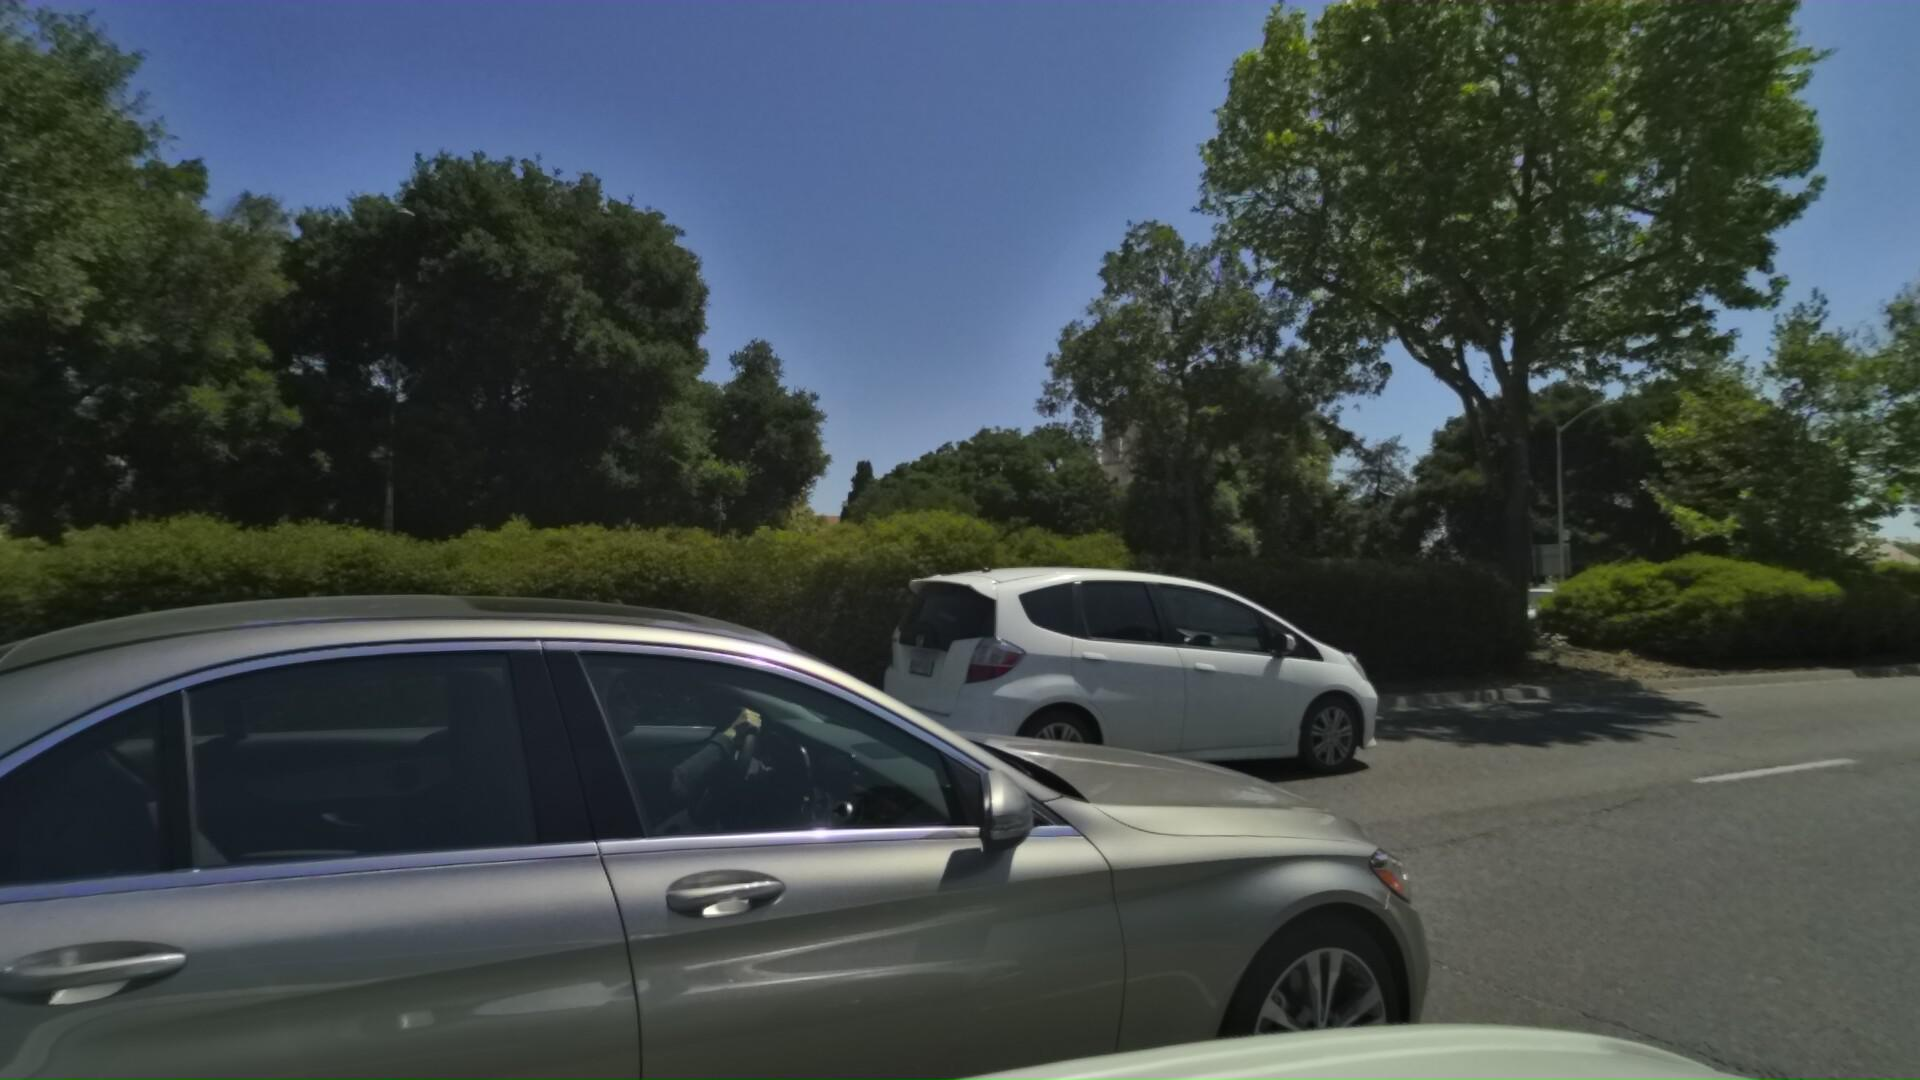car: (0, 585, 1534, 1080), (829, 553, 1425, 829), (1429, 578, 1590, 640)
